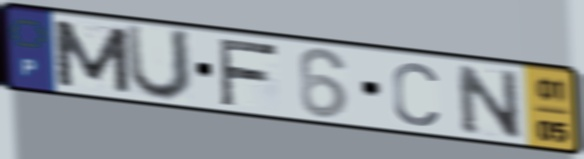6: (294, 46, 355, 121)
C: (389, 58, 442, 129)
F: (214, 35, 281, 108)
M: (49, 17, 135, 96)
N: (452, 61, 526, 141)
U: (122, 21, 195, 104)
